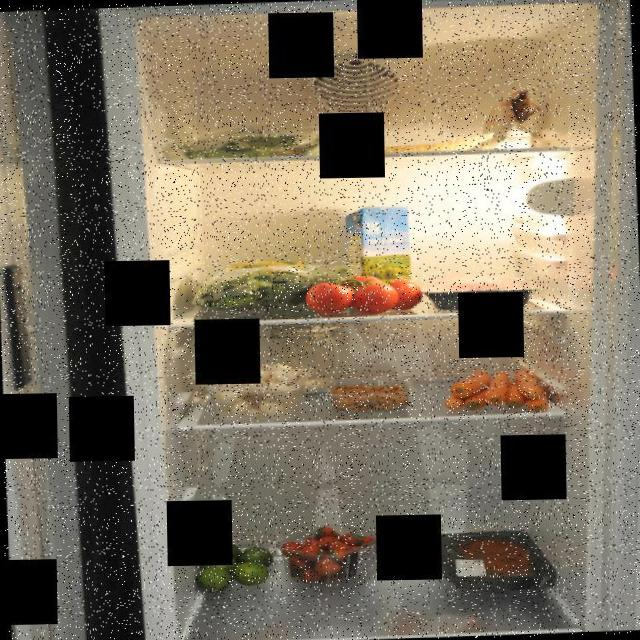Carne vacuno: (423, 528, 557, 594), (418, 270, 543, 311)
Champiñones: (210, 350, 314, 420)
Gambas/Langostinos: (328, 382, 408, 412)
Leche: (344, 204, 418, 297)
Tomate: (301, 272, 424, 316)
Zanahoria: (440, 366, 552, 418)
flour: (264, 321, 351, 394), (466, 82, 544, 152)
green_beans: (175, 118, 336, 160)
spinach: (192, 256, 344, 316)
strawberries: (274, 518, 382, 588)
